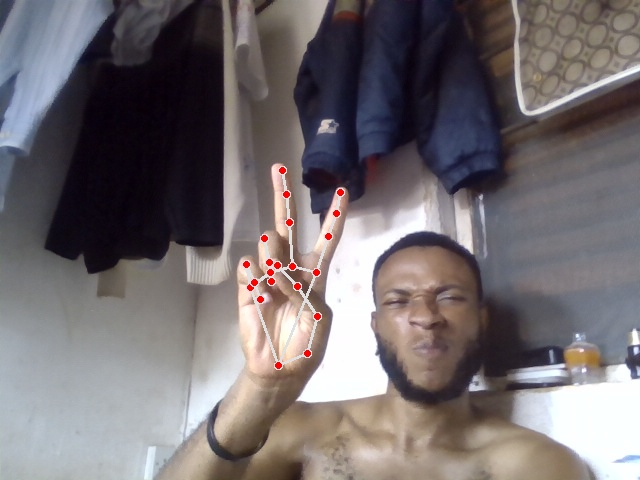peace: (236, 163, 348, 386)
